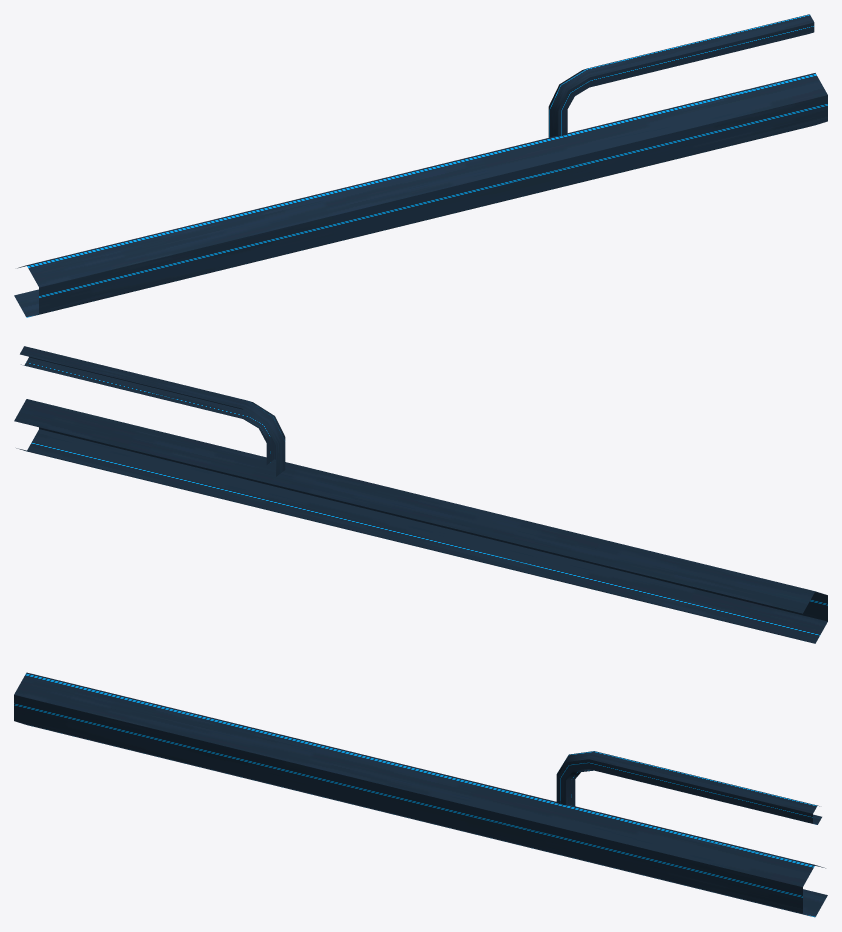
The model's file is Pipe 2.fbx.
3 views of the same model, one above another, from view 1: azimuth 30°, elevation 25°; view 2: azimuth 150°, elevation 25°; view 3: azimuth 330°, elevation 25° (orthographic).
Visible parts, largest first — view 1: pPipe4; view 2: pPipe4; view 3: pPipe4.
Boxes of the visible parts, x1,y1,x2,y2 form: pPipe4: (14, 14, 827, 317); pPipe4: (14, 346, 827, 643); pPipe4: (14, 672, 827, 917).
Bounding box in the file's own units: 84.24 × 11.09 × 4.65.
